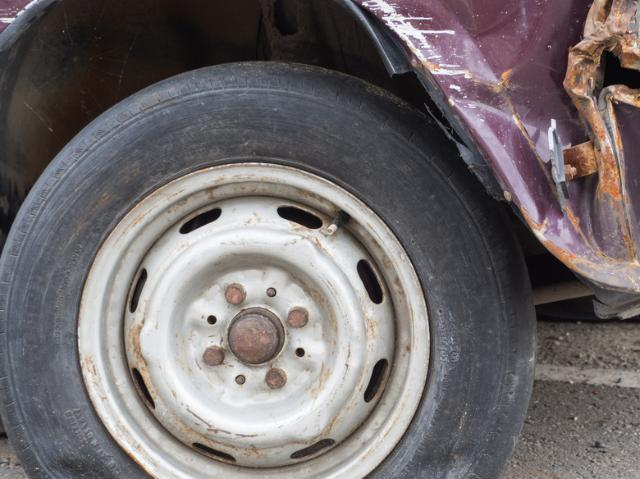Bumper: (375, 0, 640, 275)
